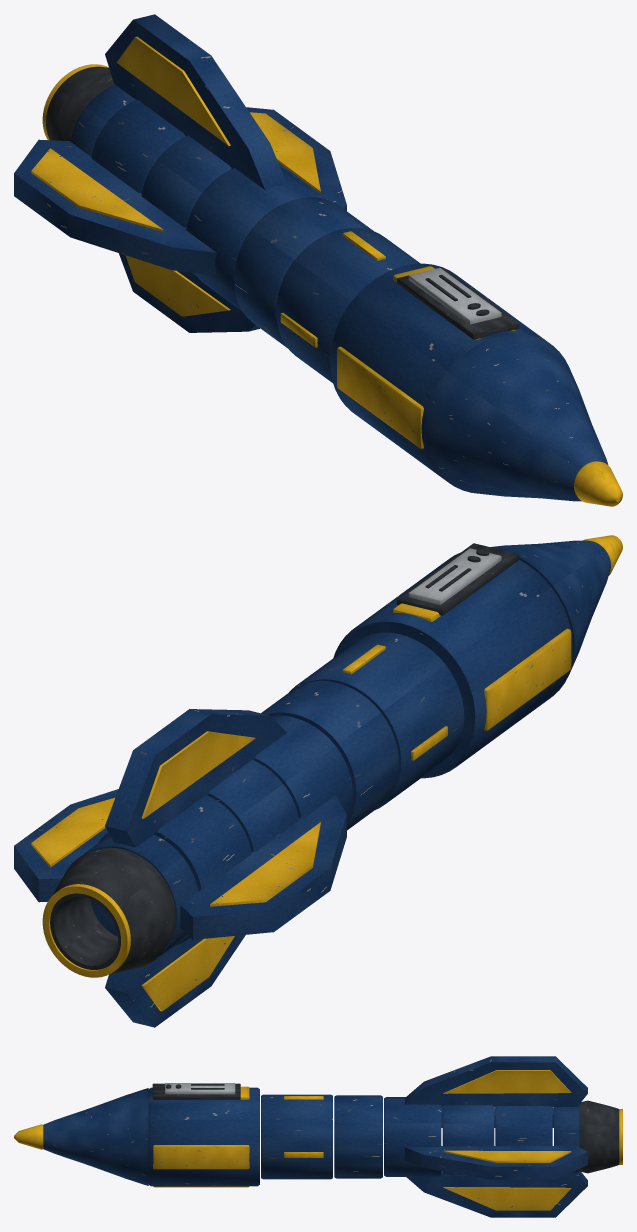
3 renders of one model, top to bottom at view 1: azimuth 30°, elevation 25°; view 2: azimuth 150°, elevation 25°; view 3: azimuth 270°, elevation 25°, orthographic. The views are drawn at different scales.
Visible parts, largest first — view 1: InterceptorBody; view 2: InterceptorBody; view 3: InterceptorBody.
Boxes of the visible parts, box(x1,y1,x2,y2) form: InterceptorBody: box(14, 14, 622, 506); InterceptorBody: box(14, 535, 622, 1027); InterceptorBody: box(14, 1056, 622, 1217).
Bounding box in the file's own units: 2.93 × 2.93 × 10.4.
Materials: 1 (1 with a texture image).
